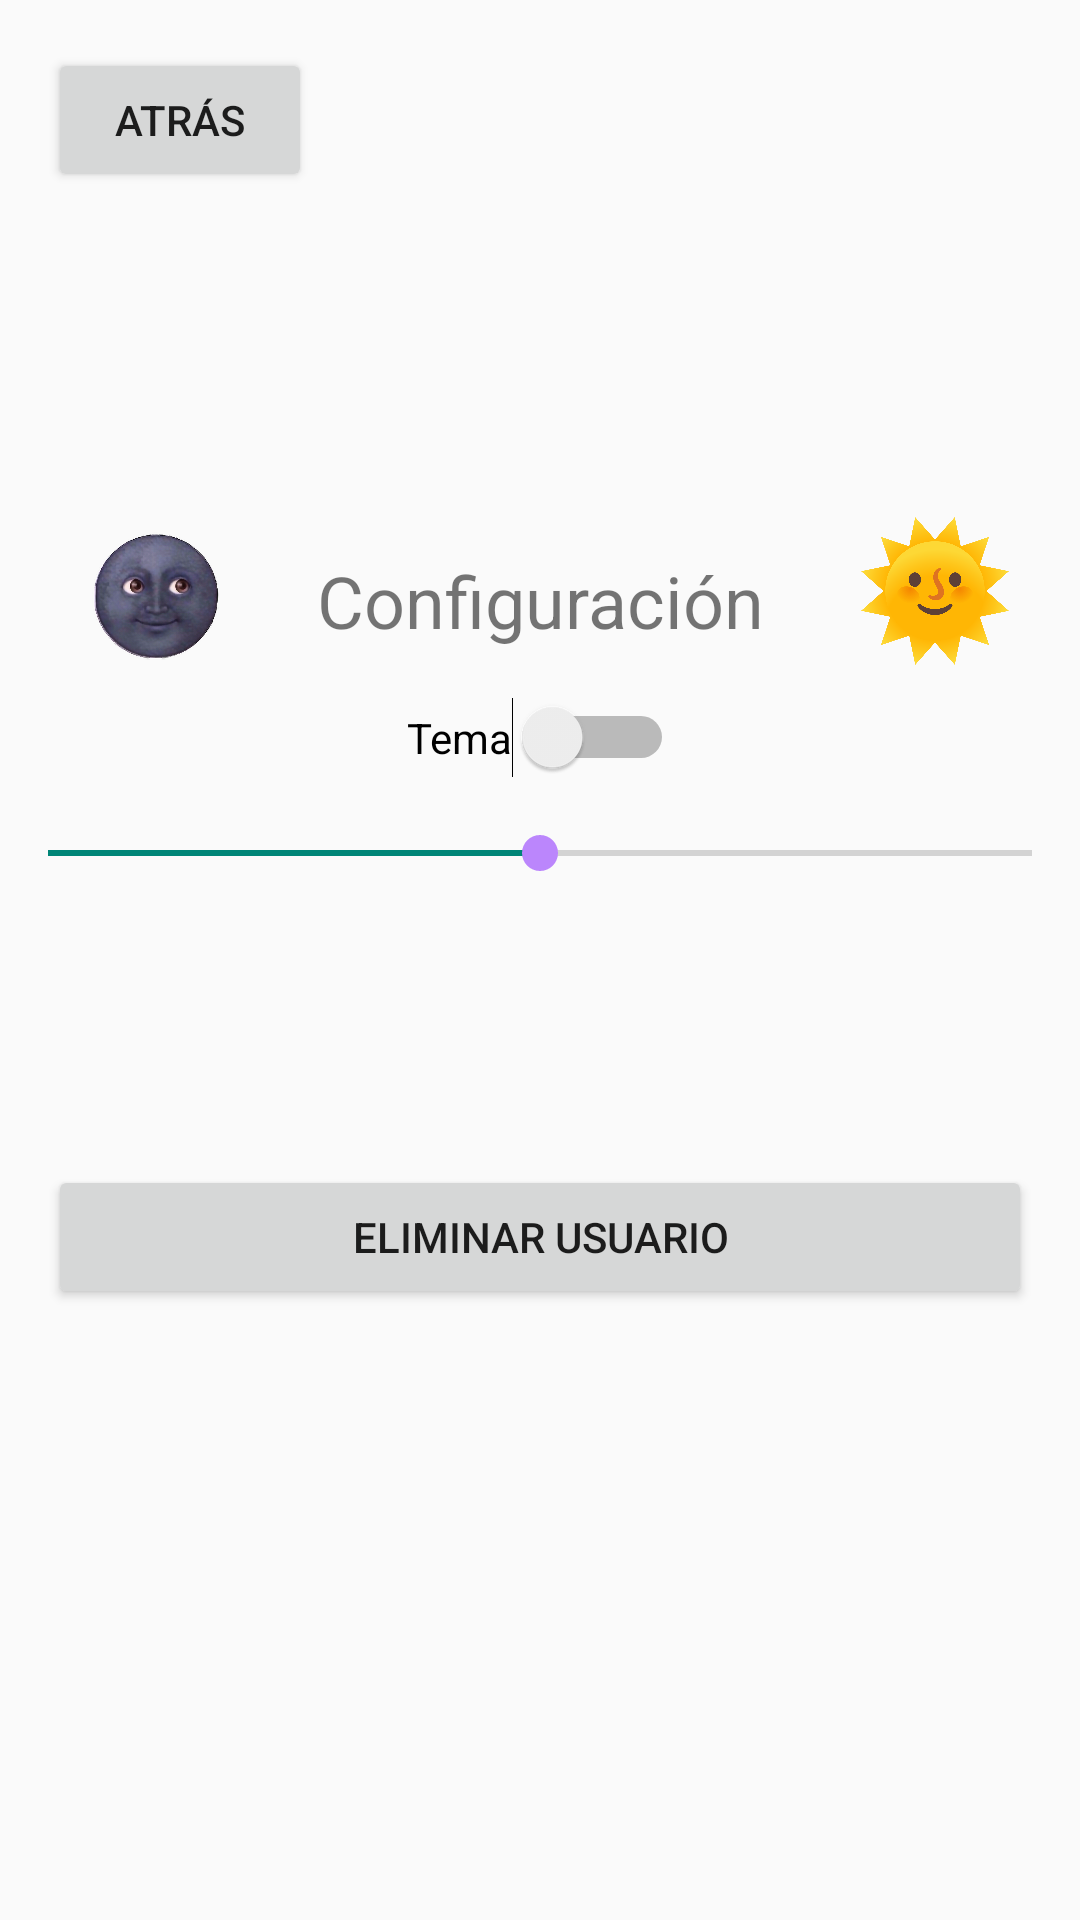

Icon click points for this 1080×1920 phone screenshot, format (x,y):
luna: (156,596)
sol: (935,591)
